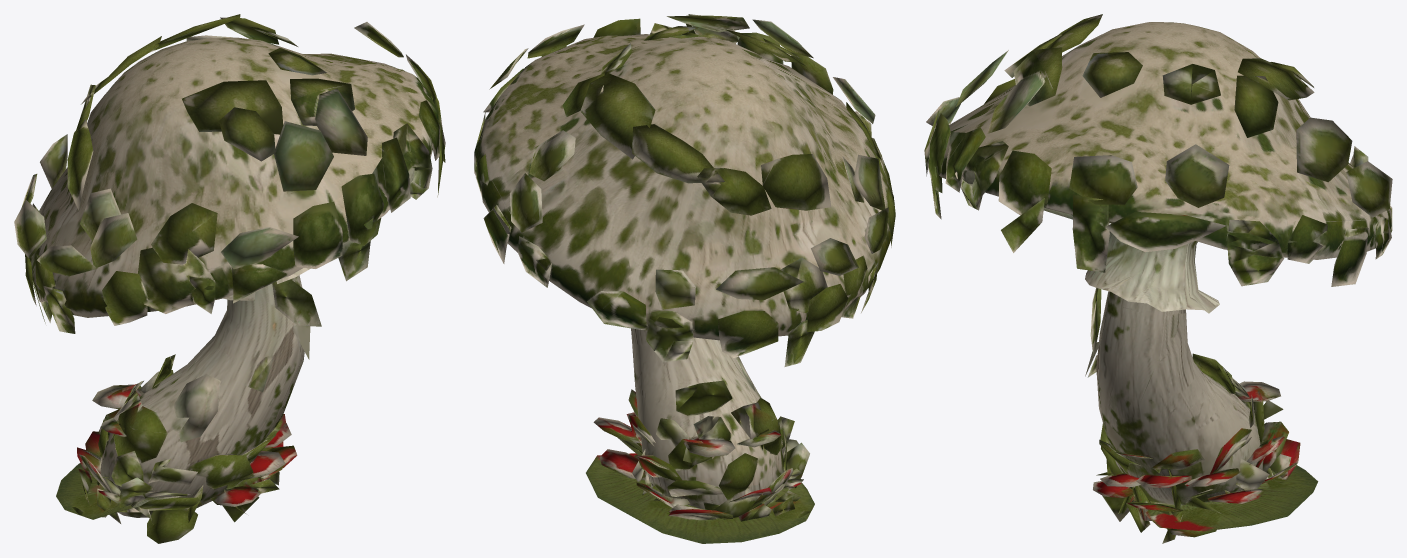
The model's file is nature-green-giant-mushroom.glb.
The picture shows the model from 3 angles, left to right: view 1: azimuth 30°, elevation 25°; view 2: azimuth 150°, elevation 25°; view 3: azimuth 270°, elevation 25°; orthographic projection. The views are drawn at different scales.
Size of the model in its own units: 0.8783 by 1 by 0.8786.
Materials: 1 (1 with a texture image).
